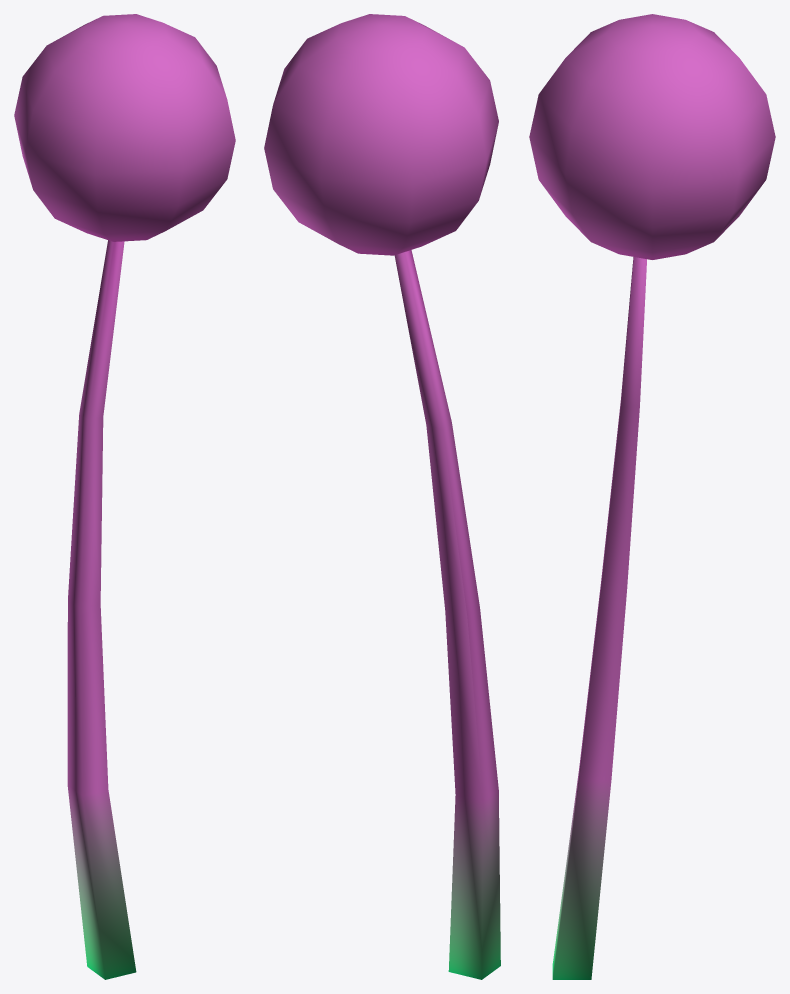
The model's file is mdl_env_1_forest_flower_a_v01.fbx.
3 renders of one model, left to right at view 1: azimuth 30°, elevation 25°; view 2: azimuth 150°, elevation 25°; view 3: azimuth 270°, elevation 25°, orthographic. The views are drawn at different scales.
Parts seen in each view (by area): view 1: mdl_env_1_forest_flower_a_v01; view 2: mdl_env_1_forest_flower_a_v01; view 3: mdl_env_1_forest_flower_a_v01.
Boxes of the visible parts, bbox=[...] form: mdl_env_1_forest_flower_a_v01: bbox=[14, 14, 235, 979]; mdl_env_1_forest_flower_a_v01: bbox=[264, 14, 500, 979]; mdl_env_1_forest_flower_a_v01: bbox=[529, 14, 775, 979].
Bounding box in the file's own units: 0.4958 × 2.16 × 0.4958.
